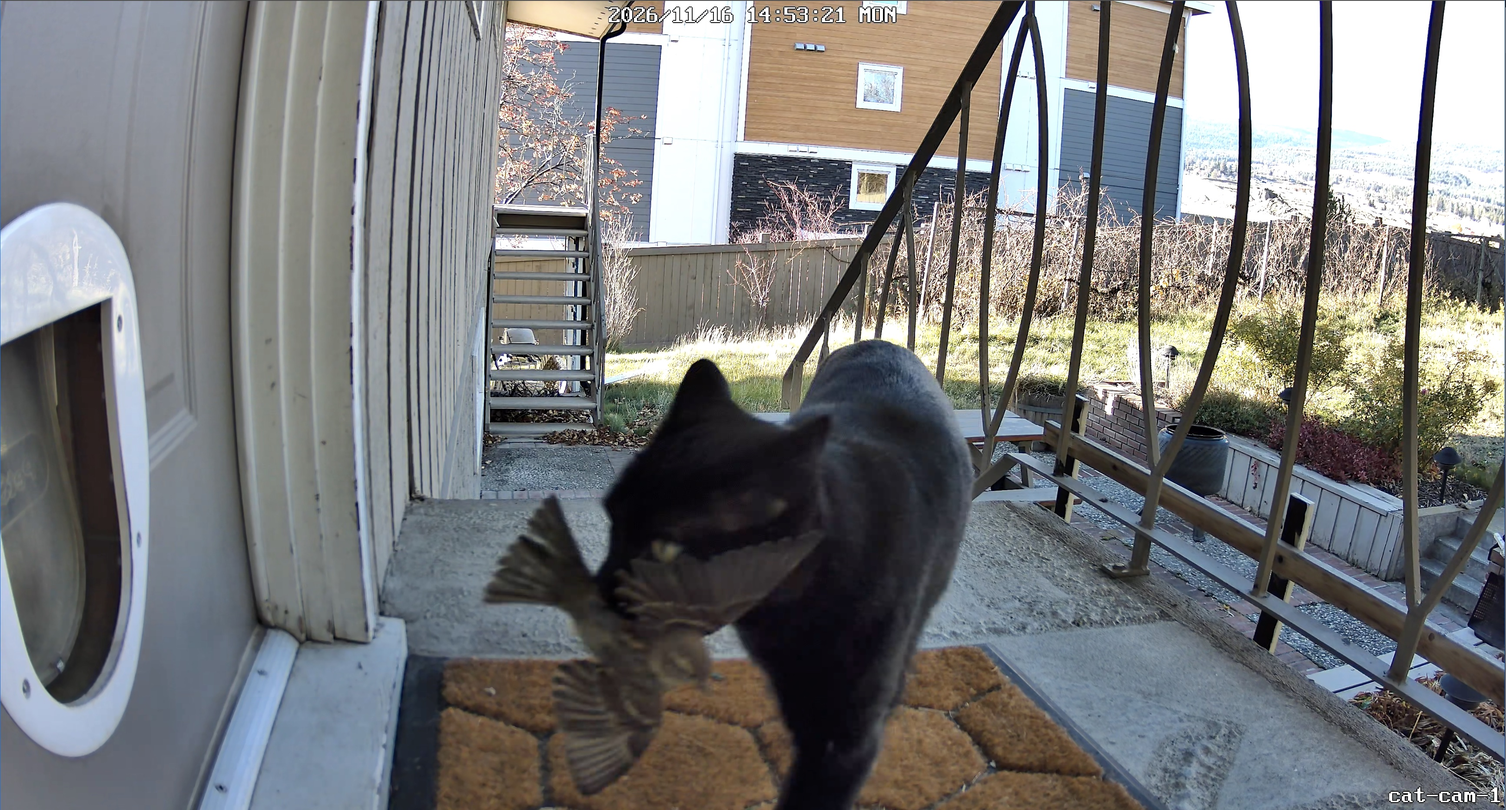prey: (482, 490, 821, 790)
